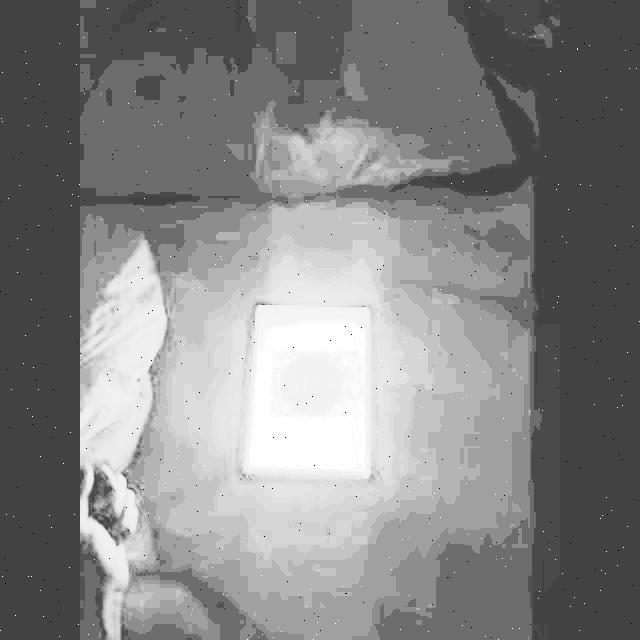STOP: (284, 355, 342, 415)
